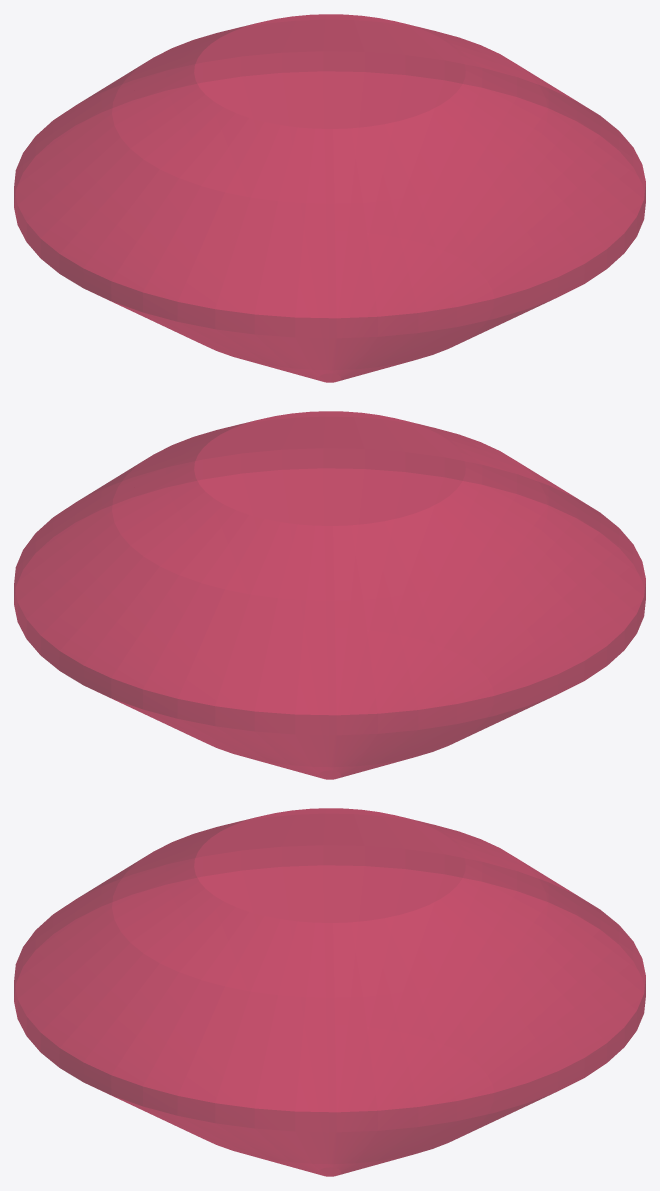
File: stone-ruby.glb
3 views of the same model, one above another, from view 1: azimuth 30°, elevation 25°; view 2: azimuth 150°, elevation 25°; view 3: azimuth 270°, elevation 25° (orthographic).
Visible parts, largest first — view 1: Sculpture; view 2: Sculpture; view 3: Sculpture.
Boxes of the visible parts, box(x1,y1,x2,y2) form: Sculpture: box(14, 14, 645, 382); Sculpture: box(14, 411, 645, 779); Sculpture: box(14, 808, 645, 1176).
Size of the model in its own units: 2 by 1.07 by 2.
